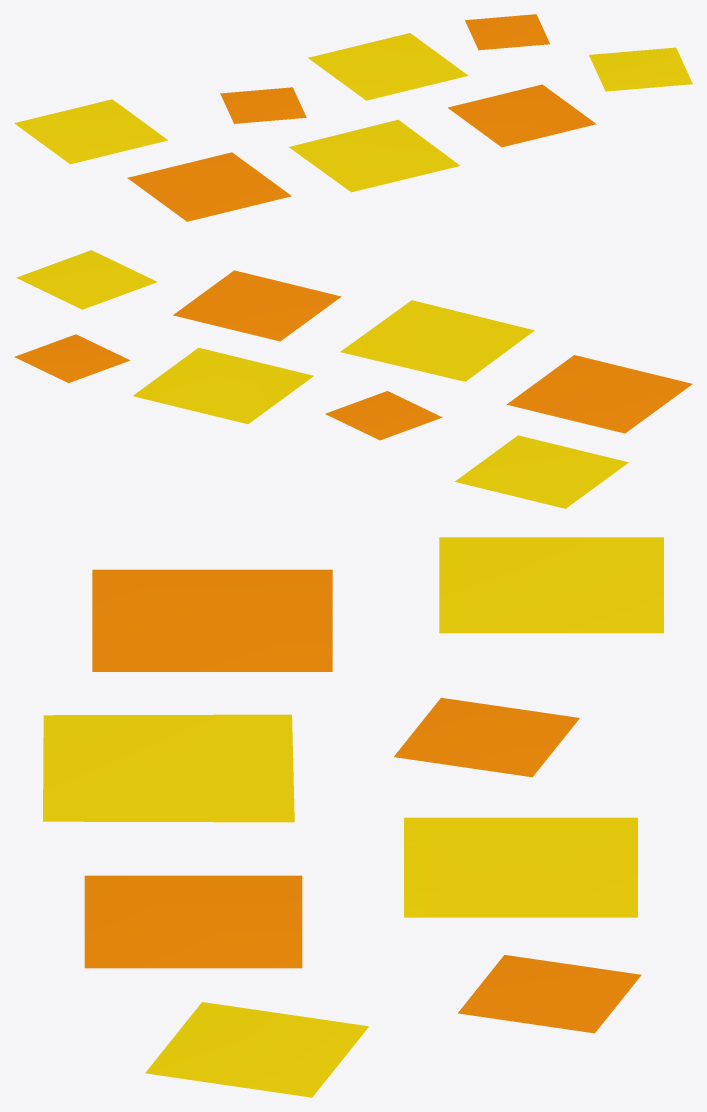
Rendered from PathNewLow2.fbx.
3 views of the same model, one above another, from view 1: azimuth 30°, elevation 25°; view 2: azimuth 150°, elevation 25°; view 3: azimuth 270°, elevation 25° (orthographic). The views are drawn at different scales.
Parts seen in each view (by area): view 1: Path; view 2: Path; view 3: Path.
Boxes of the visible parts, x1=… form: Path: x1=14, y1=14, x2=692, y2=221; Path: x1=14, y1=250, x2=692, y2=508; Path: x1=43, y1=537, x2=663, y2=1097.
Size of the model in its own units: 5.03 by 0.0154 by 2.36.
